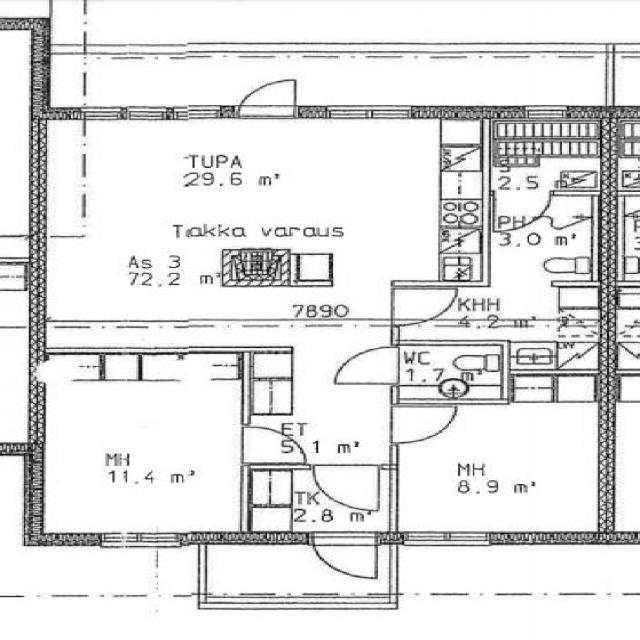door: (311, 530, 377, 586), (312, 463, 378, 511), (238, 67, 294, 119), (492, 190, 548, 232), (335, 346, 398, 383), (391, 289, 454, 325), (239, 426, 300, 461), (391, 406, 450, 441)
